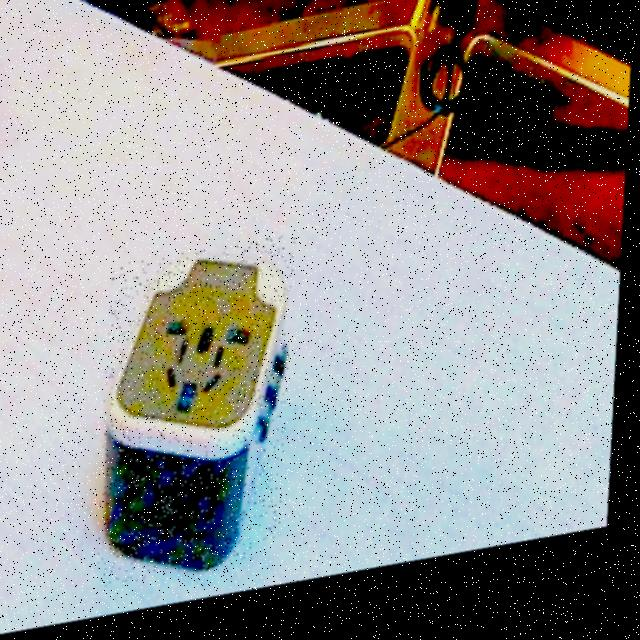adapter: (101, 244, 298, 593)
